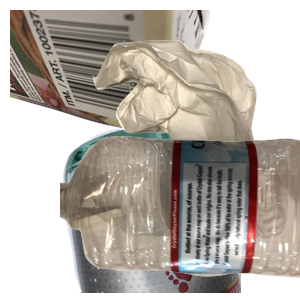cardboard: (10, 10, 213, 146)
glass: (60, 120, 300, 300)
plastic: (60, 134, 300, 300)
trash: (90, 38, 300, 183)
